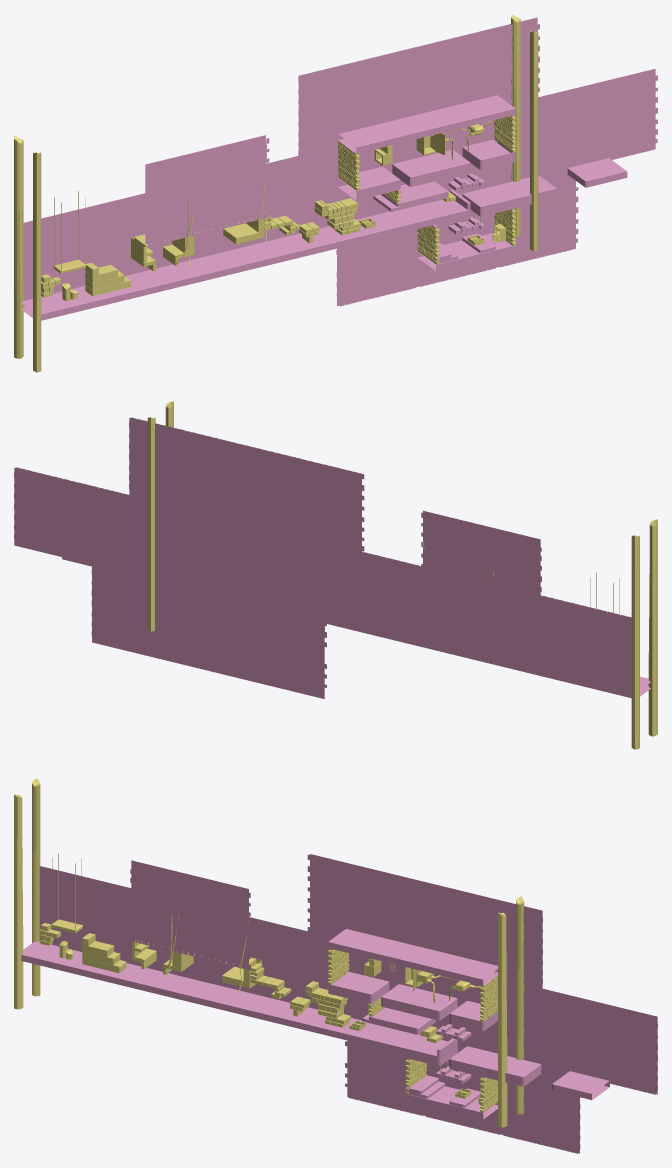
Rendered from Stage_Labo.fbx.
3 renders of one model, top to bottom at view 1: azimuth 30°, elevation 25°; view 2: azimuth 150°, elevation 25°; view 3: azimuth 330°, elevation 25°, orthographic. The views are drawn at different scales.
Visible parts, largest first — view 1: BackWall, Floor, Piller, Goods.002, Wall, Walls, Goods.001; view 2: BackWall, Piller, Floor; view 3: BackWall, Floor, Piller, Goods.002, Walls, Wall, Goods.001.
Part boxes in pixels (x1,y1,x2,y2): BackWall: (23,17,657,306); Floor: (21,95,627,320); Piller: (14,14,538,372); Goods.002: (53,168,266,296); Wall: (337,115,516,264); Walls: (41,191,484,297); Goods.001: (374,120,505,245); BackWall: (14,417,631,698); Piller: (147,401,657,749); Floor: (62,557,650,698); BackWall: (39,854,657,1153); Floor: (21,929,609,1118); Piller: (14,778,524,1127); Goods.002: (51,853,261,991); Walls: (39,923,471,1083); Wall: (327,948,497,1112); Goods.001: (364,958,496,1105).
Bounding box in the file's own units: 20167 × 7426 × 1253.
